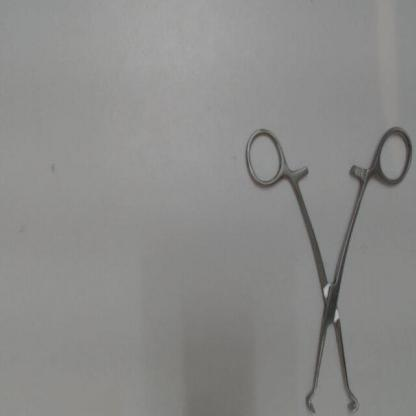Babcock Tissue Forceps: (235, 120, 414, 414)
